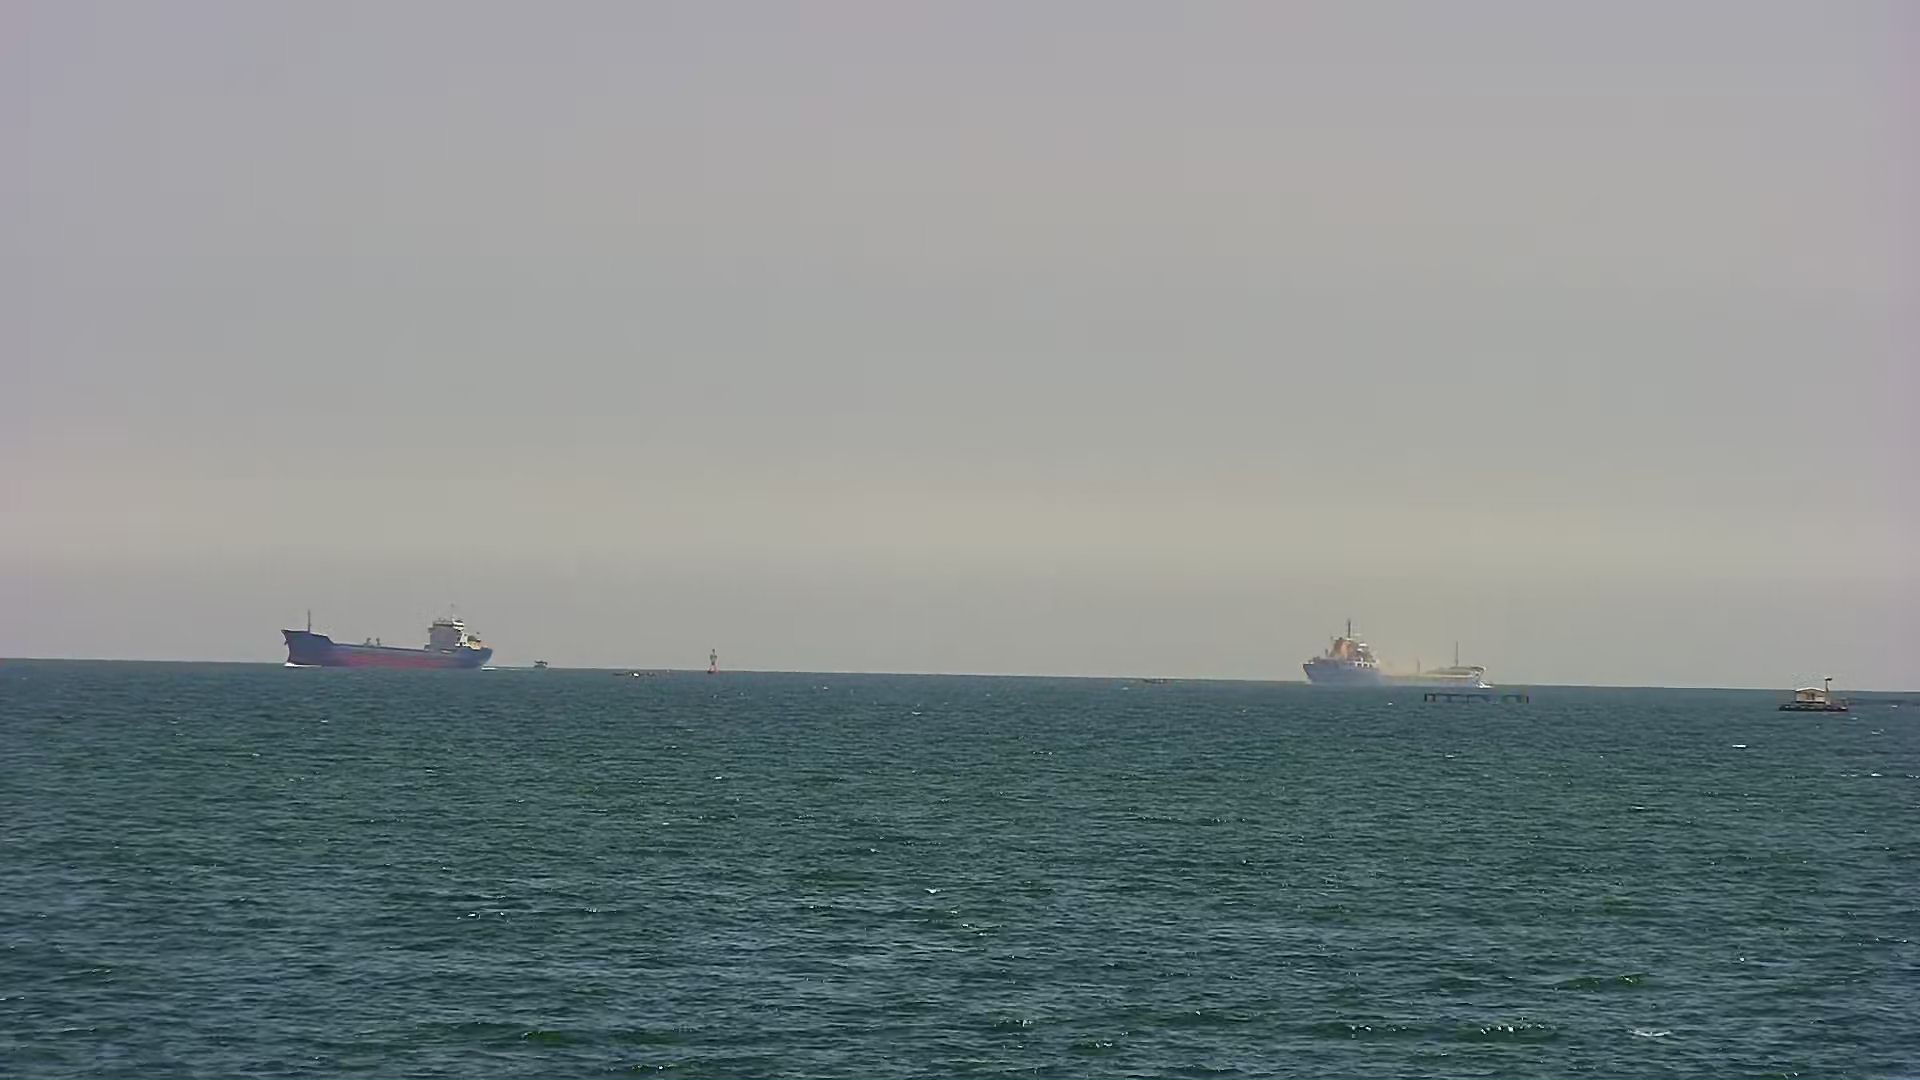platform: (1782, 674, 1855, 721)
ship: (276, 591, 495, 679), (1299, 620, 1501, 691)
